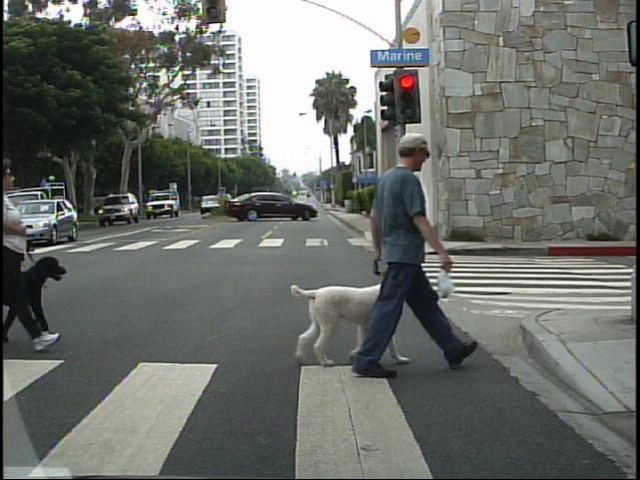person: (343, 110, 467, 378)
